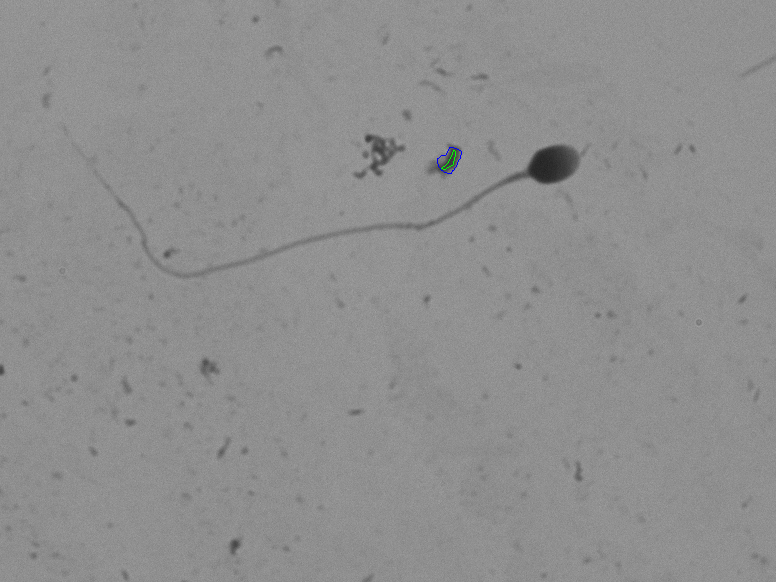Normal: (48, 74, 618, 323)
